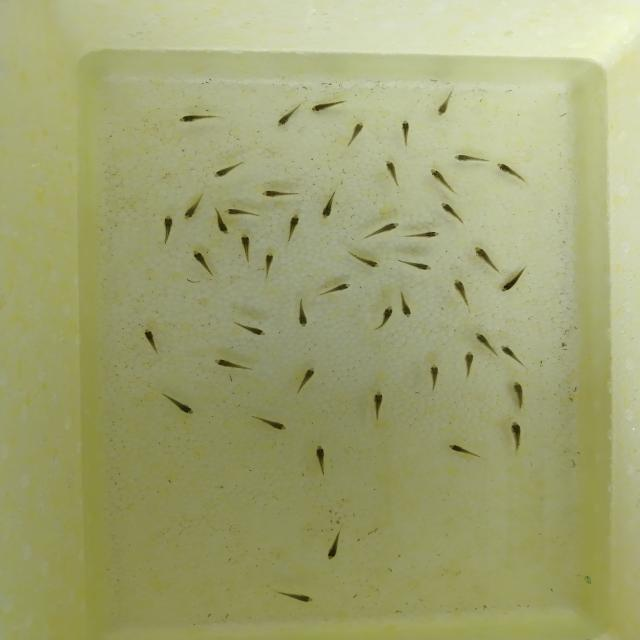fingerling: (472, 245, 505, 275), (322, 523, 348, 561), (494, 161, 531, 187), (428, 168, 460, 198), (157, 390, 195, 415), (268, 586, 318, 605), (190, 249, 218, 281), (434, 86, 462, 117), (380, 158, 406, 190), (247, 413, 289, 432), (445, 442, 487, 461), (318, 187, 342, 220), (451, 277, 473, 313), (362, 221, 400, 241), (275, 102, 304, 128), (292, 366, 317, 396), (497, 343, 528, 367), (212, 159, 249, 179), (344, 249, 381, 269), (509, 379, 530, 414), (368, 388, 388, 424), (183, 191, 206, 221), (312, 442, 331, 478), (212, 357, 257, 372), (439, 202, 467, 226), (309, 98, 350, 114), (344, 120, 367, 148), (372, 304, 395, 332), (394, 256, 434, 272), (142, 326, 162, 358), (177, 112, 226, 125), (450, 151, 492, 166), (282, 213, 302, 244), (231, 320, 267, 336), (316, 282, 354, 297), (508, 420, 524, 455), (396, 288, 414, 319), (159, 214, 176, 246), (294, 296, 310, 328), (239, 232, 254, 266), (426, 362, 442, 393), (259, 188, 302, 199), (403, 229, 442, 241), (498, 276, 524, 294), (399, 118, 414, 148), (261, 252, 277, 280), (222, 208, 264, 218), (461, 350, 475, 380), (472, 330, 492, 347), (215, 219, 230, 235)
